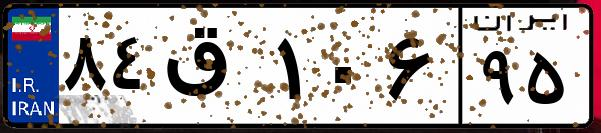0: (330, 28, 385, 110)
1: (270, 28, 330, 110)
4: (110, 28, 158, 98)
5: (525, 38, 570, 115)
6: (385, 28, 445, 110)
8: (57, 26, 110, 100)
9: (475, 38, 525, 113)
ق: (158, 20, 270, 120)
